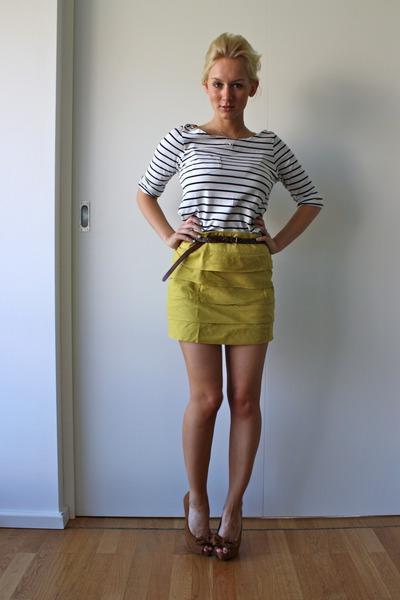long sleeve shirt: (131, 126, 323, 241)
skirt: (163, 228, 278, 344)
